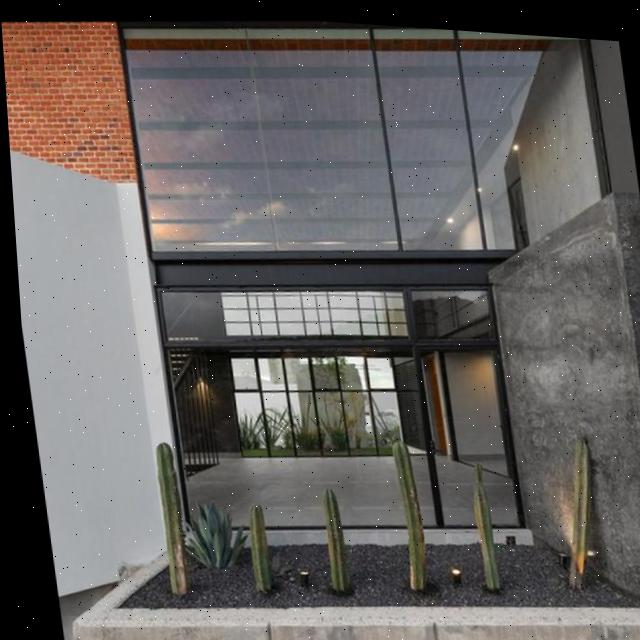building: (0, 0, 640, 570)
